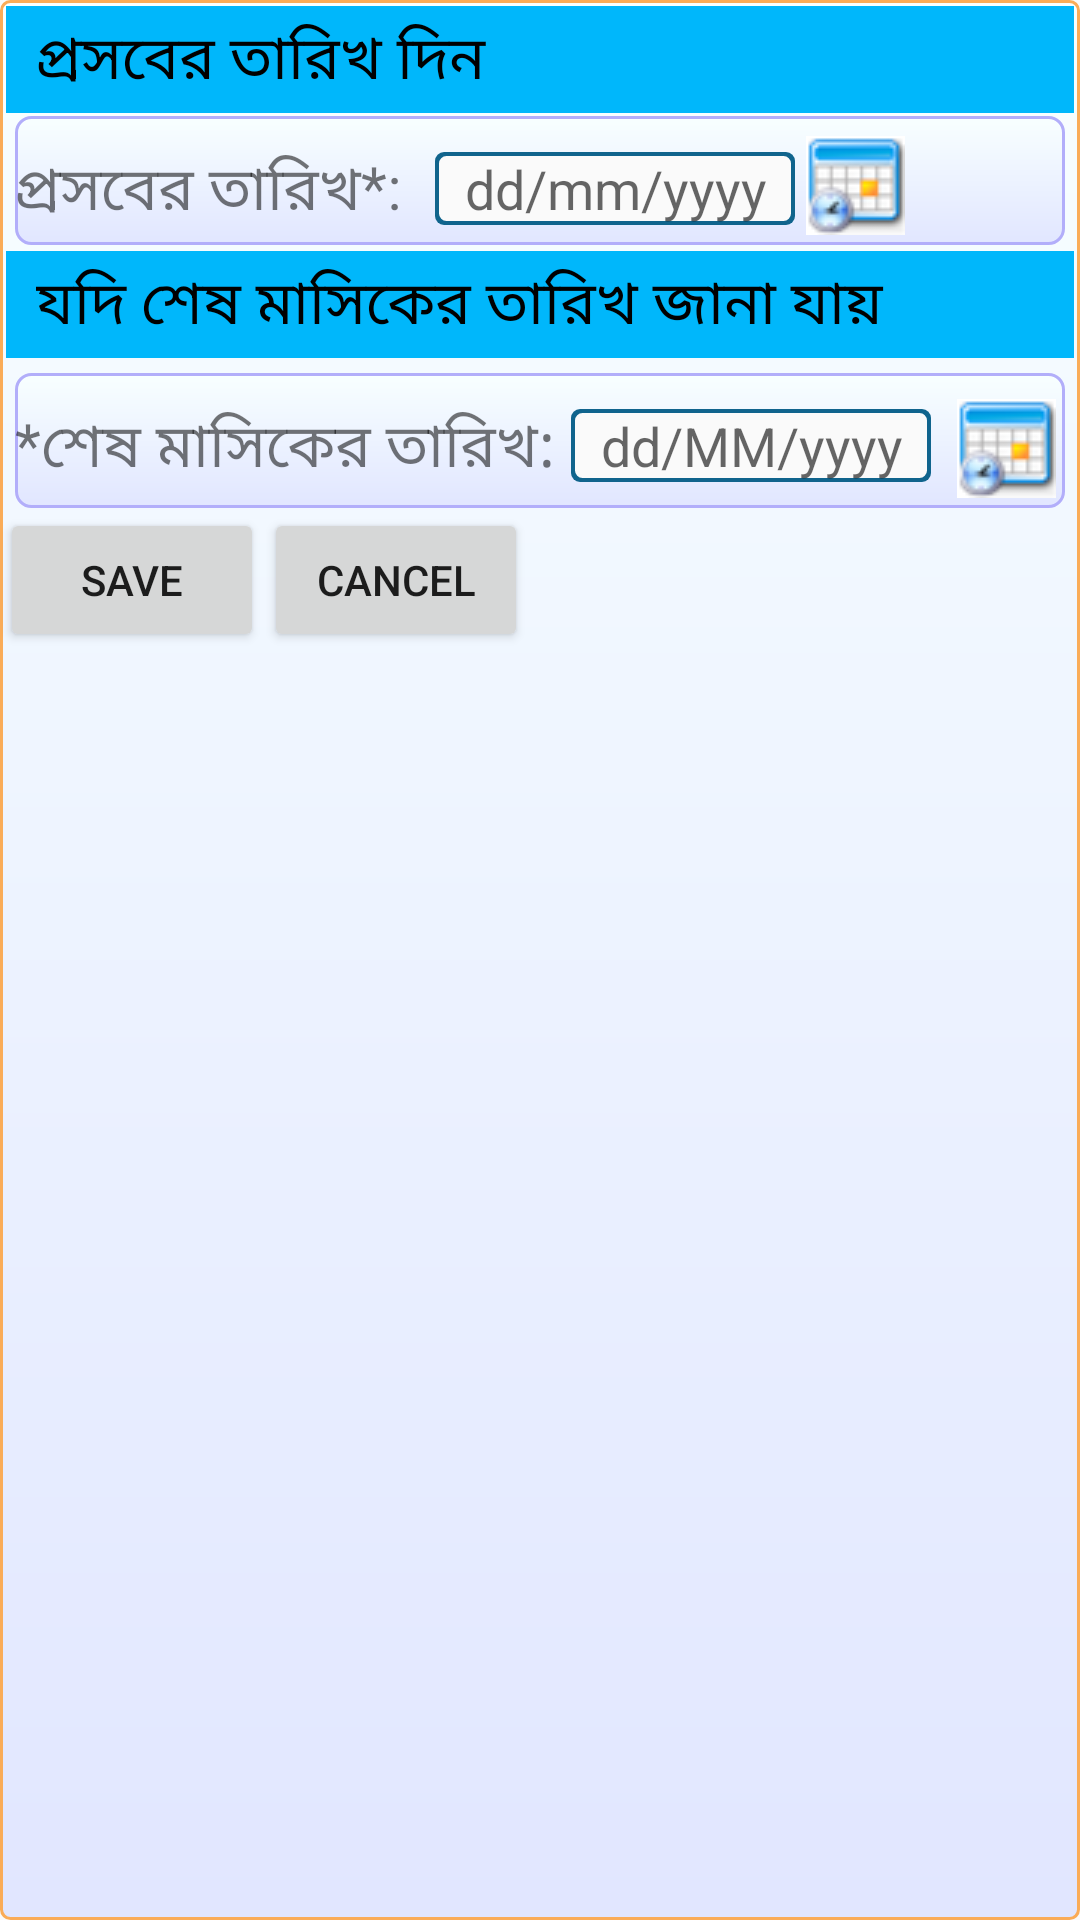

Icons on this 1080x1920 Android screen, each with the point to tap as (x=x, y=y):
calendar: (x=856, y=185), (x=1007, y=448)
